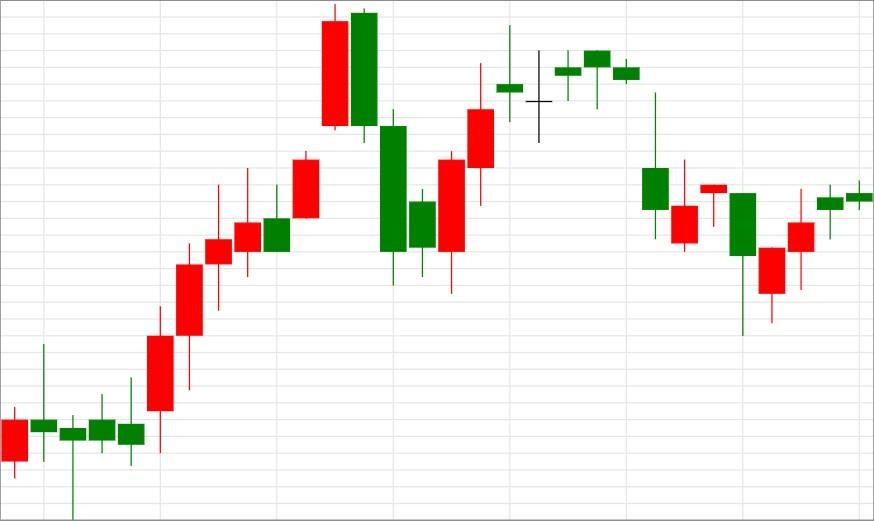bullish_engulfing_rise: (350, 7, 466, 293)
hanging_man_fall: (437, 24, 612, 294)
three_white_soldiers_rise: (0, 183, 233, 521)
